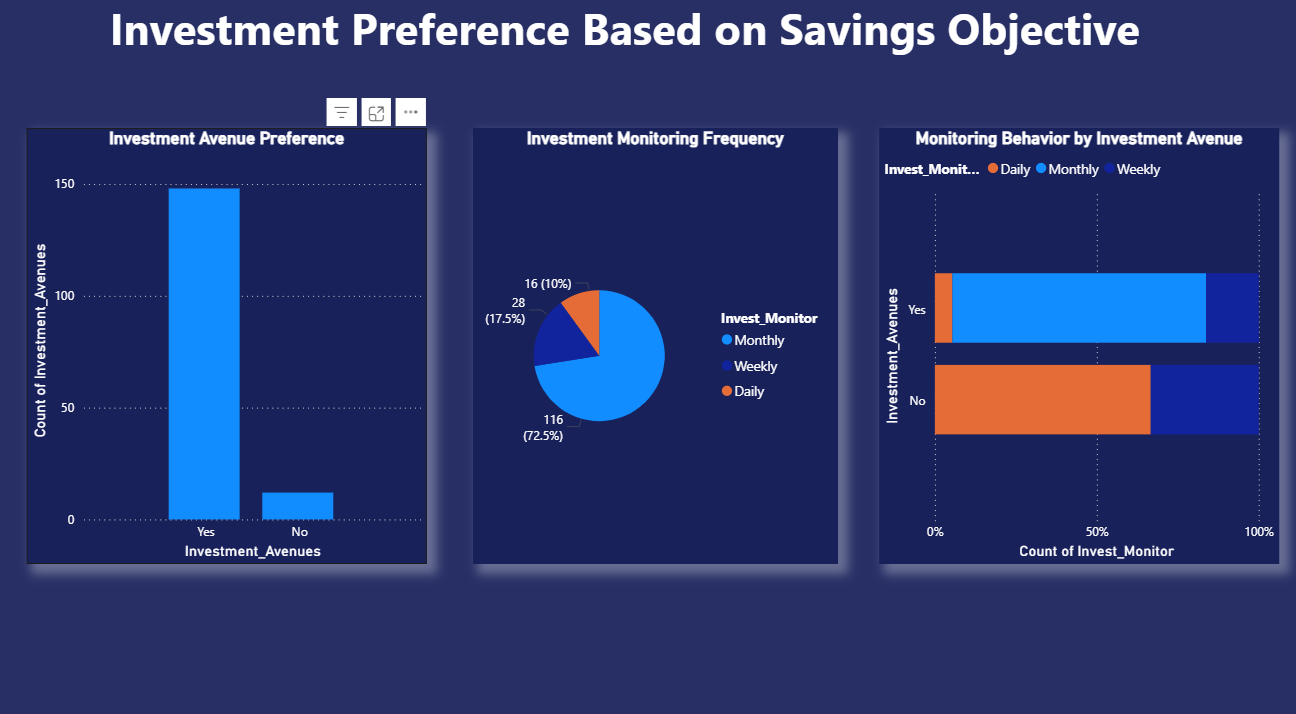

This screenshot's page, from the dashboard's own definition file:
{"tool":"powerbi","page":{"name":"Savings Objective","canvas":[1280,720],"ordinal":3},"visuals":[{"type":"textbox","box":[9.8,0,1220.9,73.6],"z":0},{"type":"clusteredColumnChart","title":"Investment Avenue Preference","fields":{"Category":["Data_set 2.Investment_Avenues"],"Y":["CountNonNull(Data_set 2.Investment_Avenues)"]},"box":[33.1,132.5,392.6,428.2],"z":1000},{"type":"pieChart","title":"Investment Monitoring Frequency","fields":{"Category":["Data_set 2.Invest_Monitor"],"Y":["CountNonNull(Data_set 2.Invest_Monitor)"]},"box":[471.2,132.5,358.3,428.2],"z":2000},{"type":"hundredPercentStackedBarChart","title":"Monitoring Behavior by Investment Avenue","fields":{"Category":["Data_set 2.Investment_Avenues"],"Y":["CountNonNull(Data_set 2.Invest_Monitor)"],"Series":["Data_set 2.Invest_Monitor"]},"box":[869.9,132.5,392.6,428.2],"z":3000}]}

Visuals, with their boxes in screenshot pixels (x1, y1, x2, y2), scaled from the page's 1280x720 canvas onto the 1296x714 screenshot:
textbox: (x1=10, y1=0, x2=1246, y2=73)
"Investment Avenue Preference" clusteredColumnChart: (x1=34, y1=131, x2=431, y2=556)
"Investment Monitoring Frequency" pieChart: (x1=477, y1=131, x2=840, y2=556)
"Monitoring Behavior by Investment Avenue" hundredPercentStackedBarChart: (x1=881, y1=131, x2=1278, y2=556)
